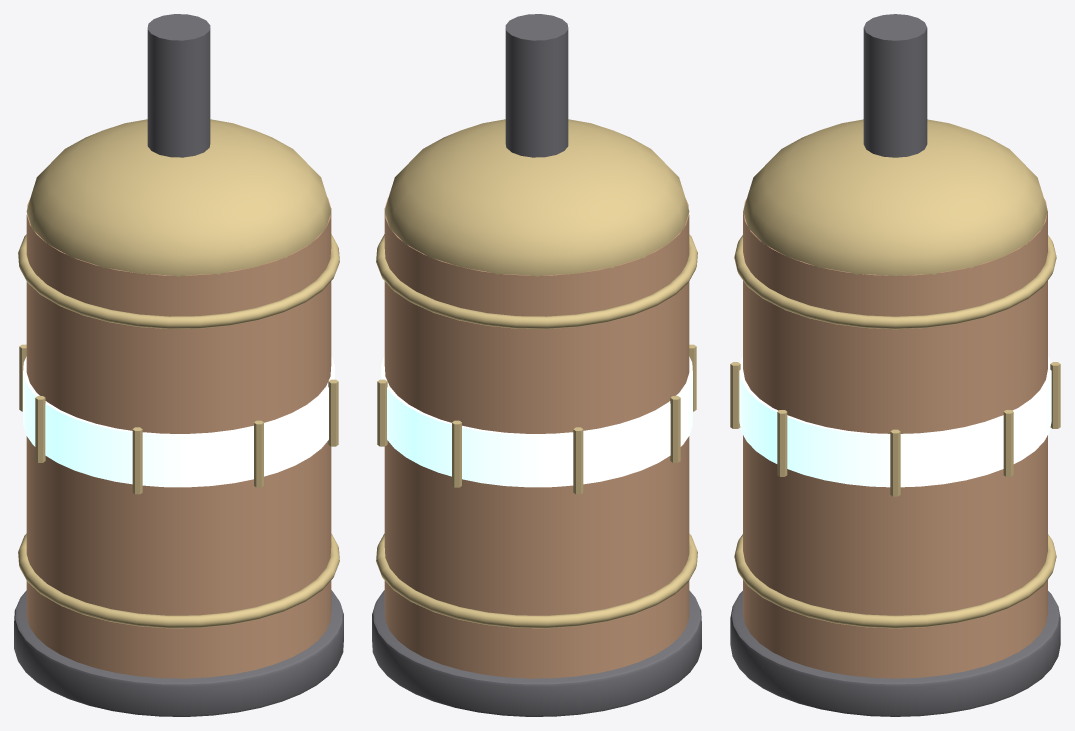
The model's file is Caldeira.fbx.
3 views of the same model, side by side, from view 1: azimuth 30°, elevation 25°; view 2: azimuth 150°, elevation 25°; view 3: azimuth 270°, elevation 25° (orthographic).
Visible parts, largest first — view 1: Caldeira; view 2: Caldeira; view 3: Caldeira.
Boxes of the visible parts, left/top/right/bottom form: Caldeira: left=14, top=14, right=343, bottom=716; Caldeira: left=372, top=14, right=701, bottom=716; Caldeira: left=730, top=14, right=1060, bottom=716.
Size of the model in its own units: 2.6 by 5.4 by 2.6.
